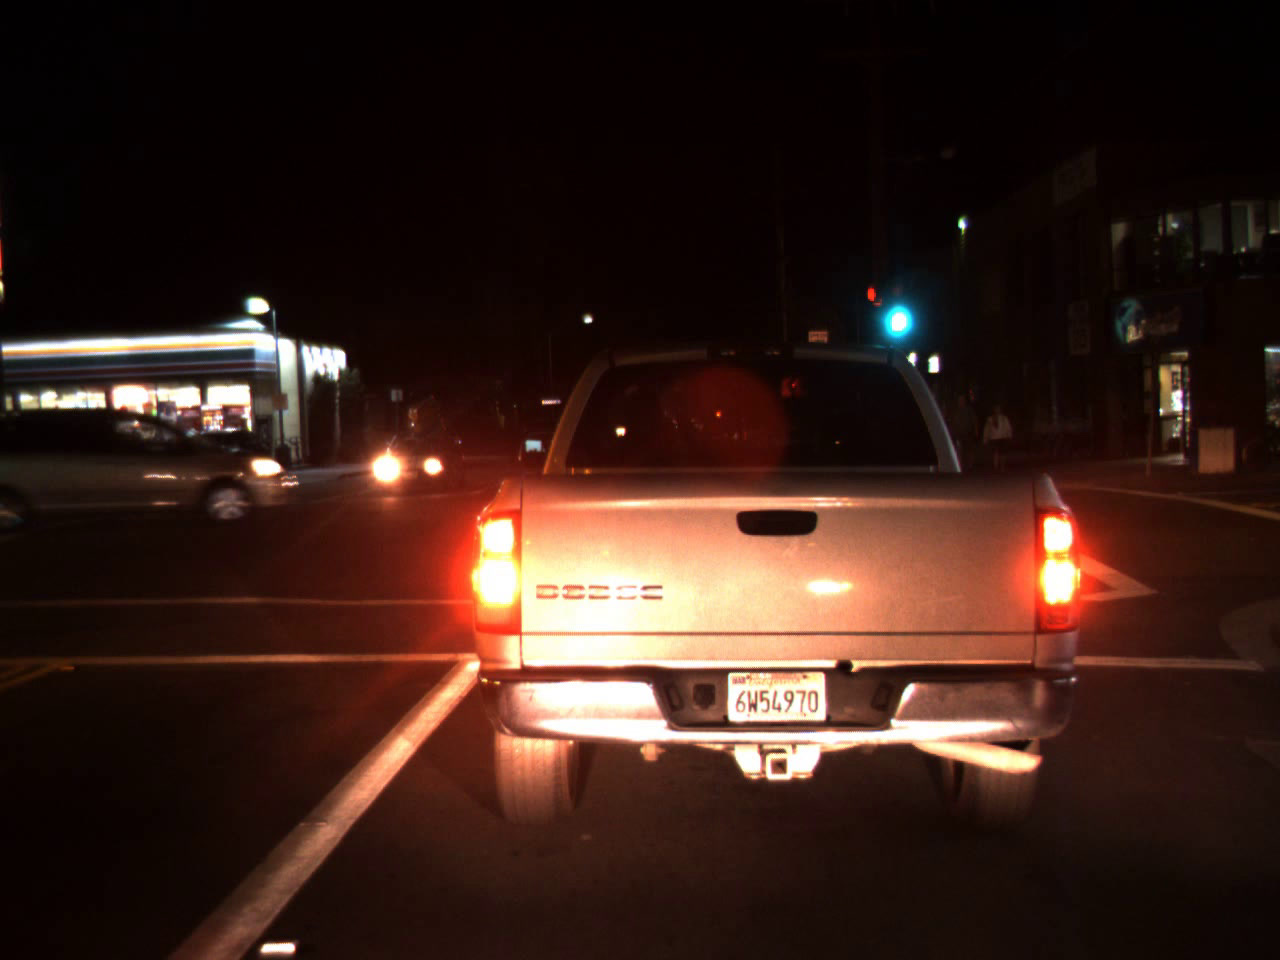go: (878, 273, 915, 345)
